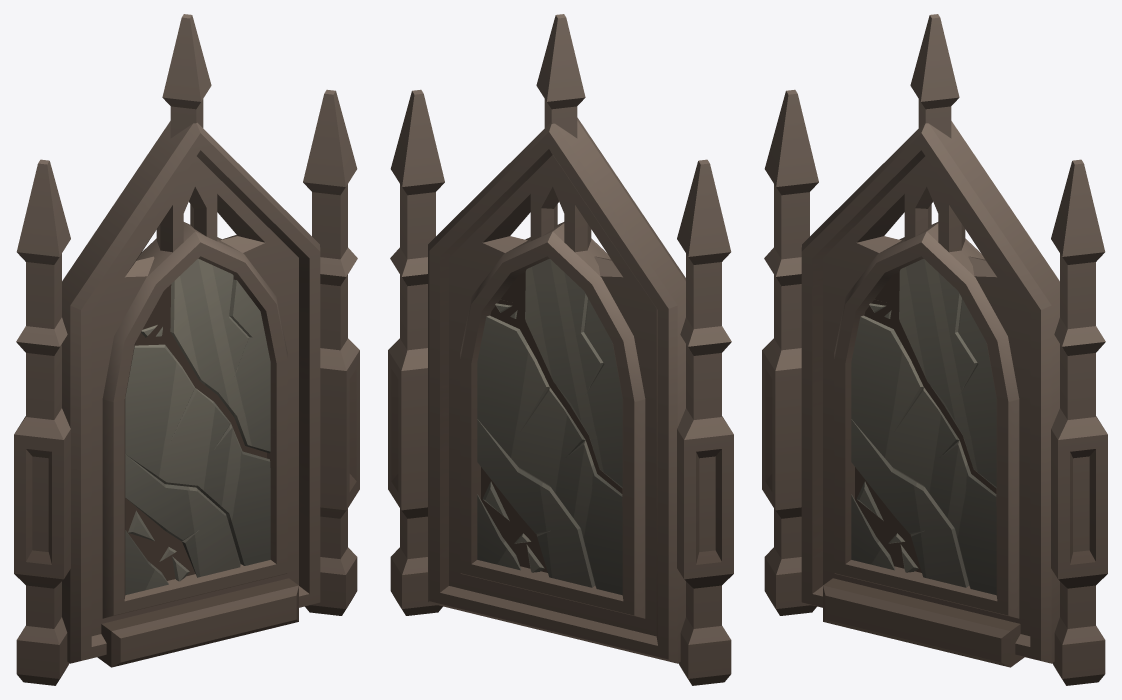
The model's file is ornate_mirror_broken.gltf.
3 renders of one model, left to right at view 1: azimuth 30°, elevation 25°; view 2: azimuth 150°, elevation 25°; view 3: azimuth 330°, elevation 25°, orthographic.
Visible parts, largest first — view 1: ornate_mirror_broken; view 2: ornate_mirror_broken; view 3: ornate_mirror_broken.
Boxes of the visible parts, x1=… form: ornate_mirror_broken: x1=14, y1=14, x2=359, y2=685; ornate_mirror_broken: x1=388, y1=14, x2=733, y2=685; ornate_mirror_broken: x1=762, y1=14, x2=1107, y2=685.
Size of the model in its own units: 2.3 by 3.98 by 0.4593.
2 materials, 2 textured.
